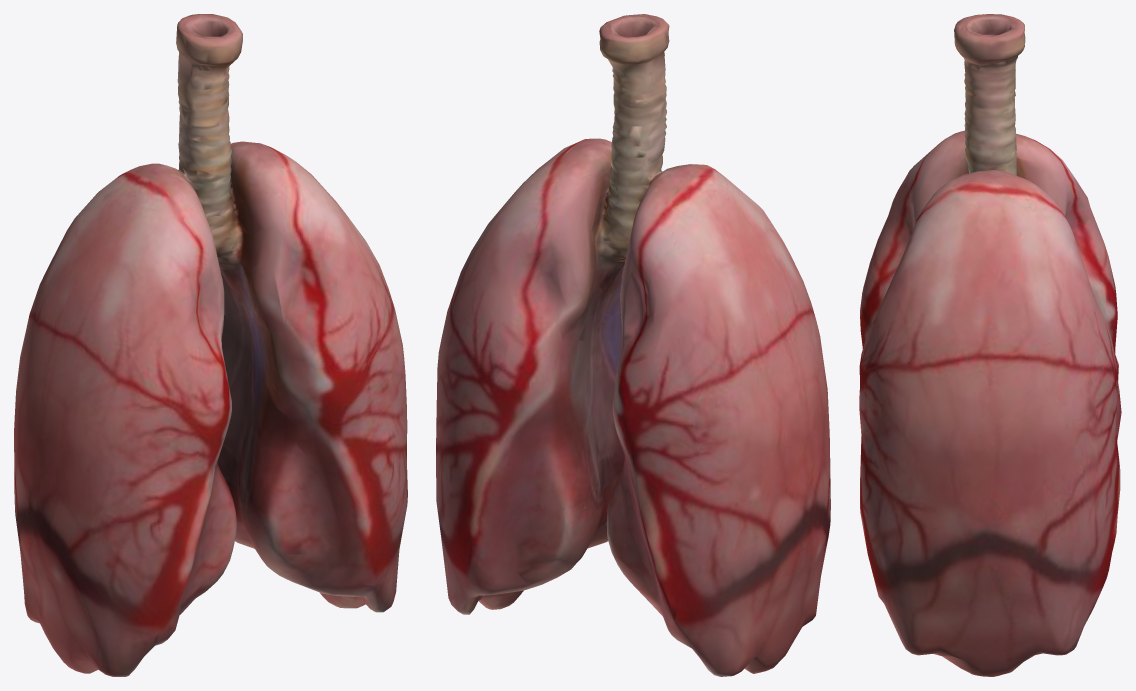
File: lungs.glb
3 renders of one model, left to right at view 1: azimuth 30°, elevation 25°; view 2: azimuth 150°, elevation 25°; view 3: azimuth 270°, elevation 25°, orthographic. The views are drawn at different scales.
Parts seen in each view (by area): view 1: Mesh_0; view 2: Mesh_0; view 3: Mesh_0.
Boxes of the visible parts, left/top/right/bottom form: Mesh_0: left=14, top=14, right=407, bottom=676; Mesh_0: left=436, top=14, right=830, bottom=676; Mesh_0: left=859, top=14, right=1121, bottom=676.
Size of the model in its own units: 1.21 by 2 by 0.8083.
Materials: 1 (1 with a texture image).
